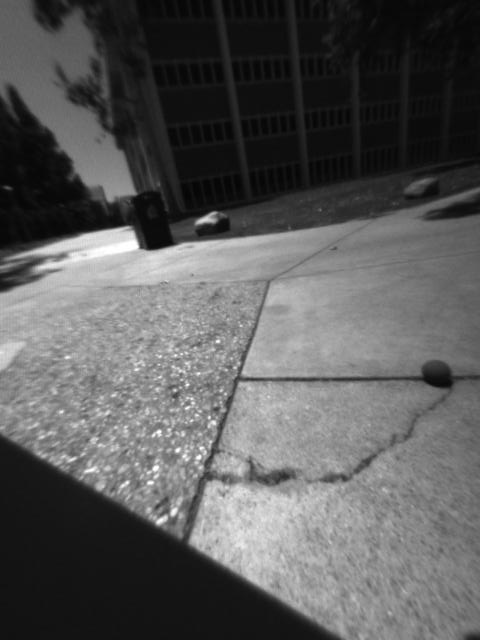dogtoy: (409, 350, 464, 400)
